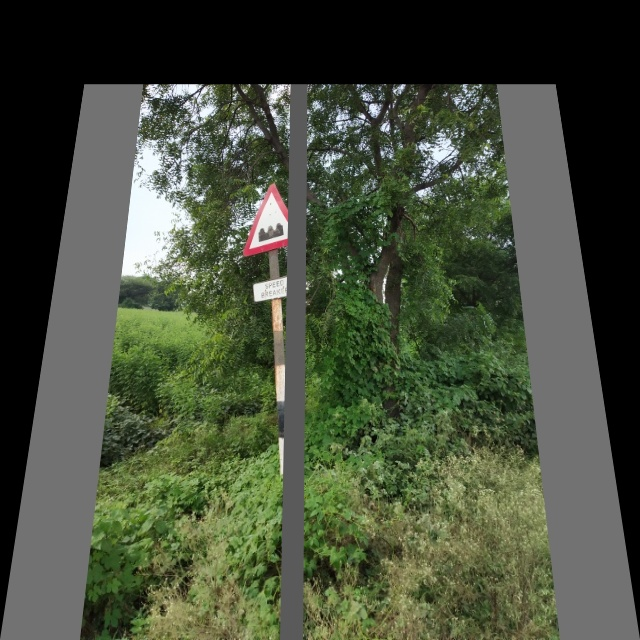Hump_or_Rough_Road: (241, 182, 308, 254)
